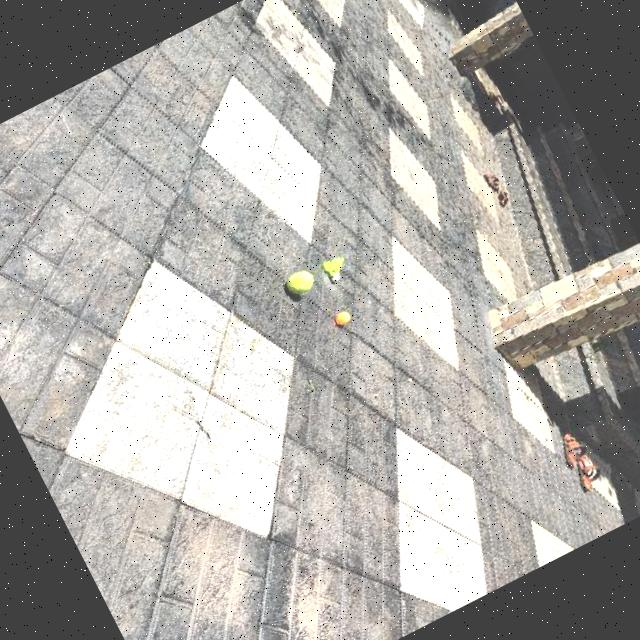ping-pong-ball: (333, 312, 352, 328)
